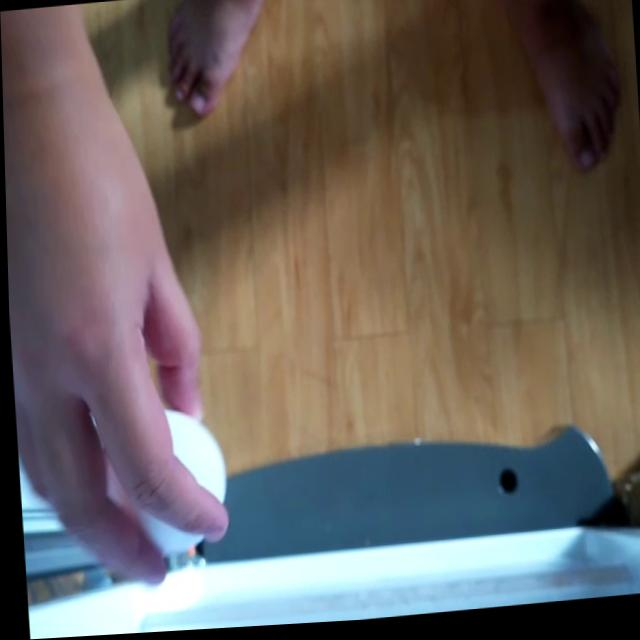egg: (116, 401, 233, 549)
